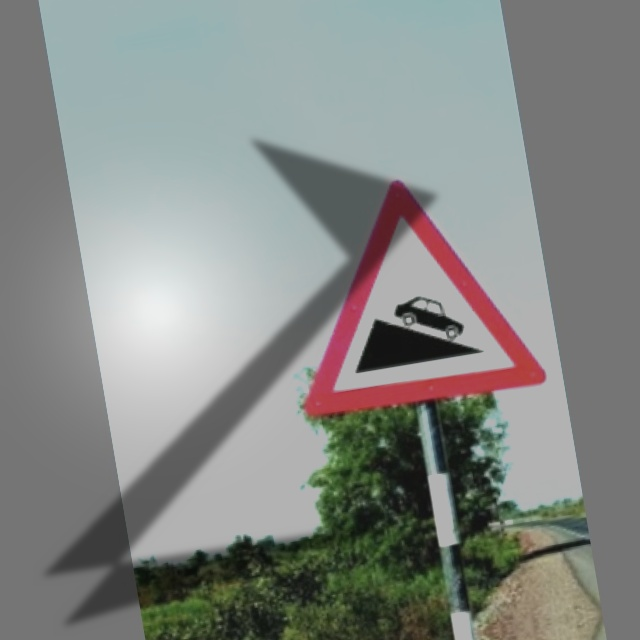Steep_Descent: (272, 162, 549, 423)
